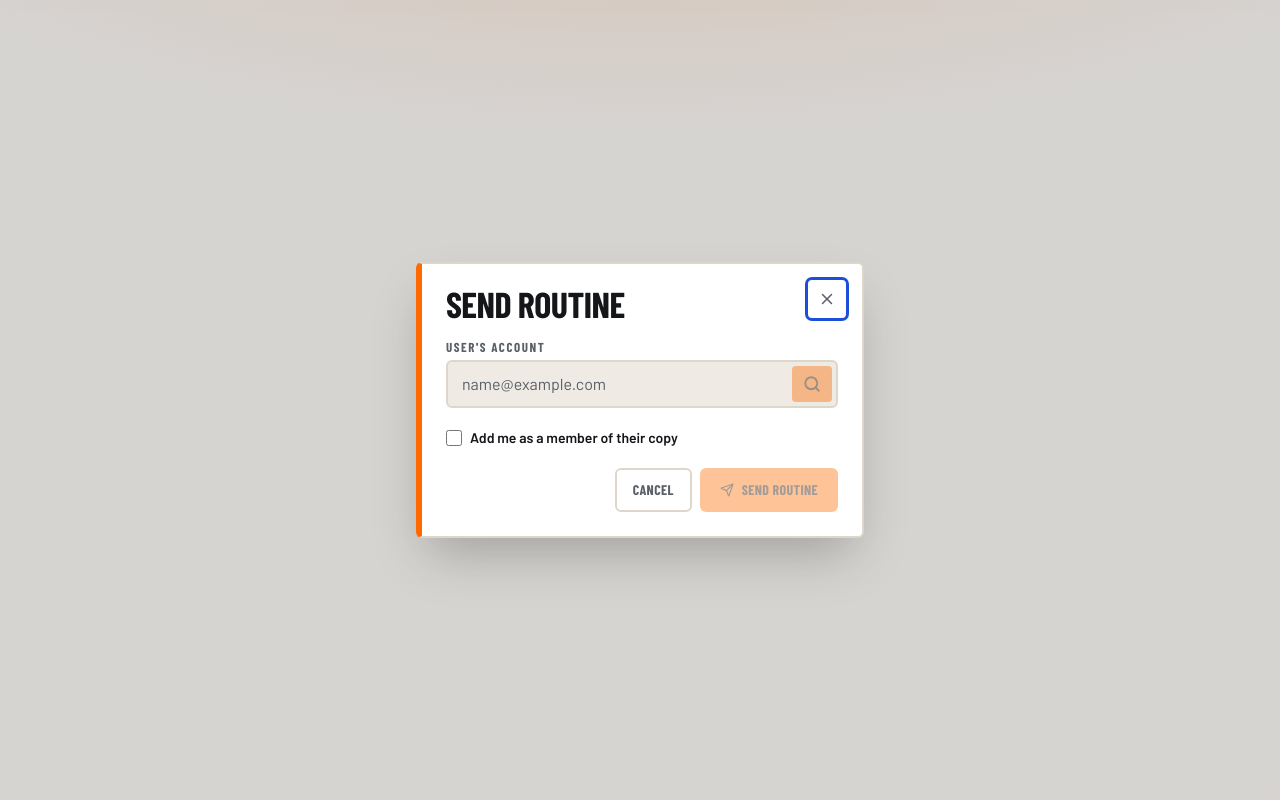
Scenario: SendRoutineModal › stays open with the error when the send is refused
The width and height of the screenshot is (1280, 800).
Type "ada@example.com" into the field labelled "User's account" at (618, 384), box [448,362,788,406]
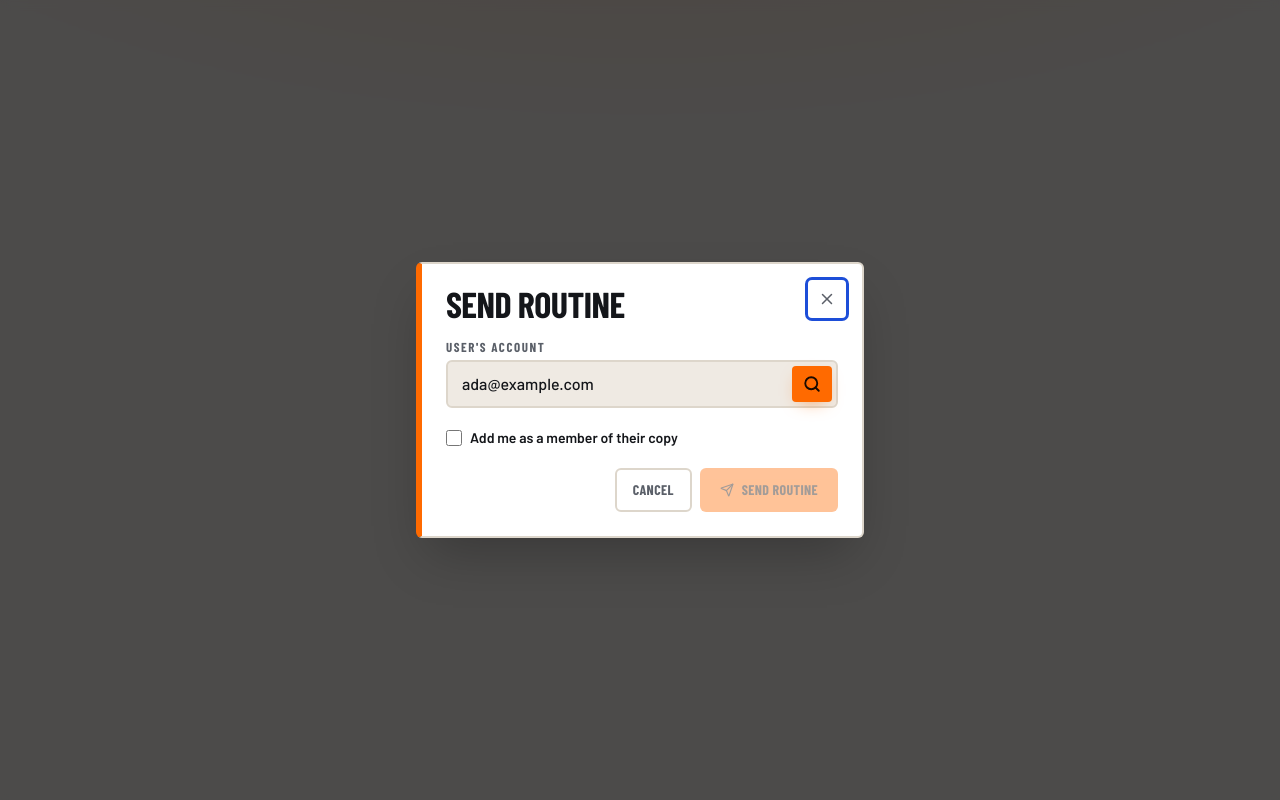
Click the button named "Search" at (812, 384), box [792,366,832,402]
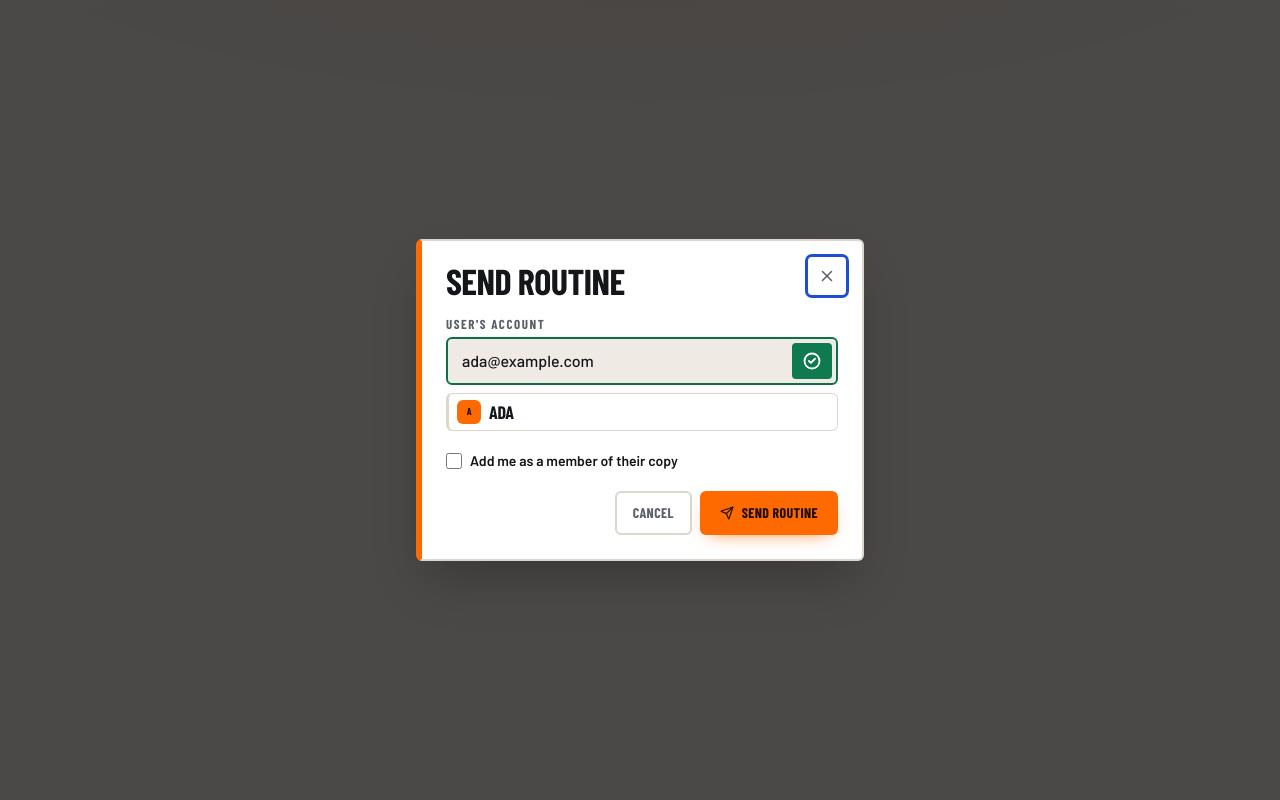
Now the picture named "Person found" is shown, box [803,352,821,370]
Click the button "Send routine" at (769, 513), box [700,491,838,535]
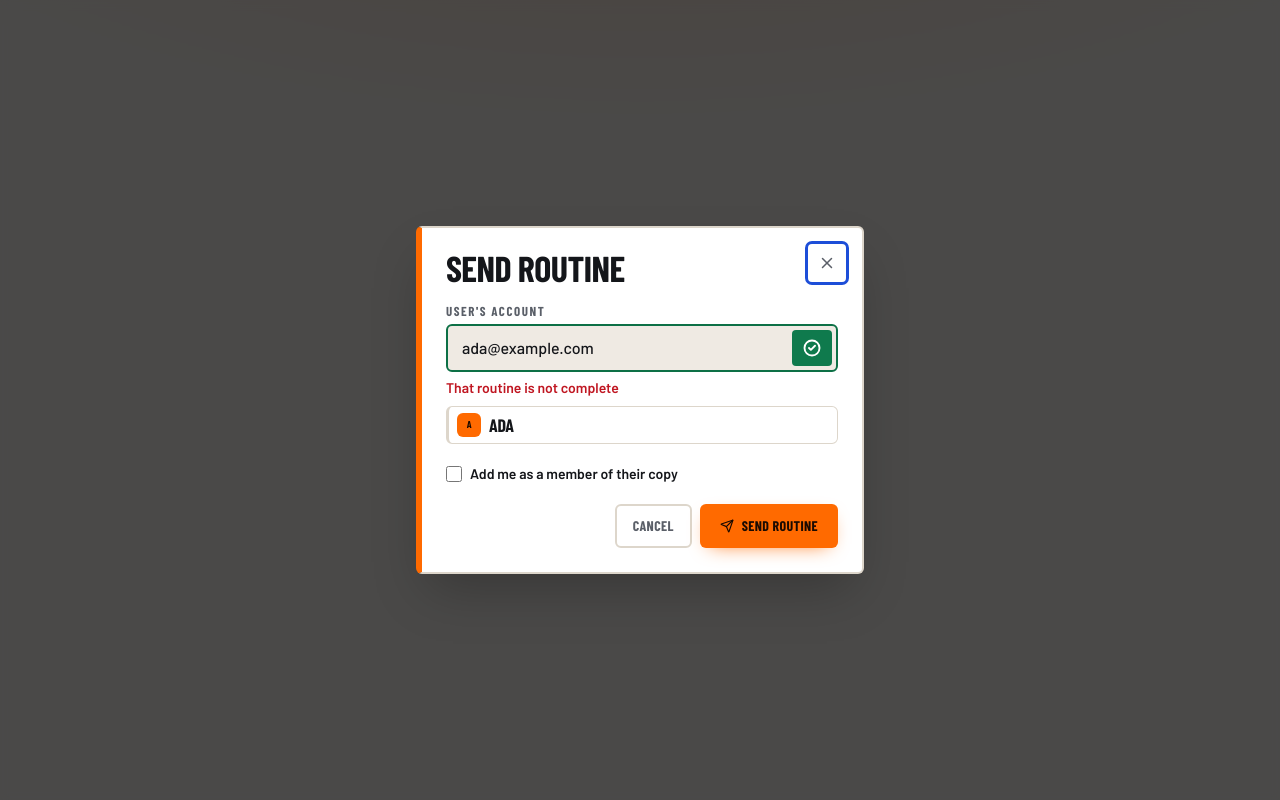
Now the message reads "That routine is not complete", box [446,379,619,396]
